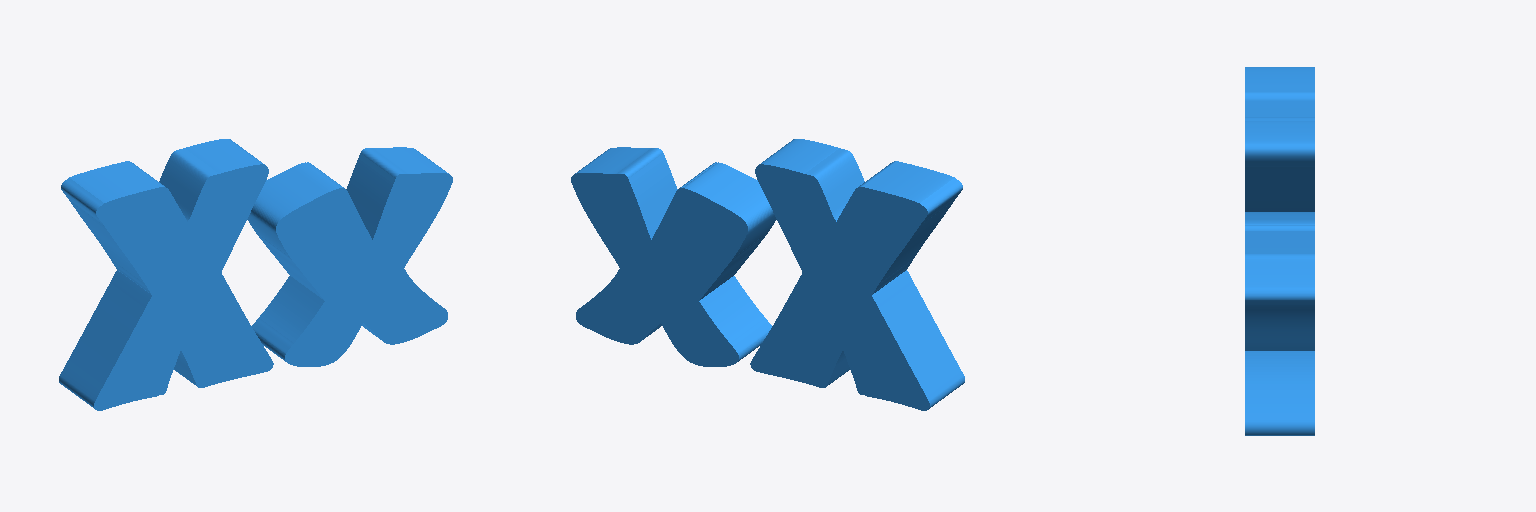
File: Letter_x.obj
The picture shows the model from 3 angles: view 1: azimuth 30°, elevation 25°; view 2: azimuth 150°, elevation 25°; view 3: azimuth 270°, elevation 25°; orthographic projection.
Parts seen in each view (by area): view 1: Text; view 2: Text; view 3: Text.
Boxes of the visible parts, <box> form: Text: <box>59,139,452,410</box>; Text: <box>571,139,964,410</box>; Text: <box>1245,67,1314,435</box>.
Size of the model in its own units: 1.18 by 0.6841 by 0.2.